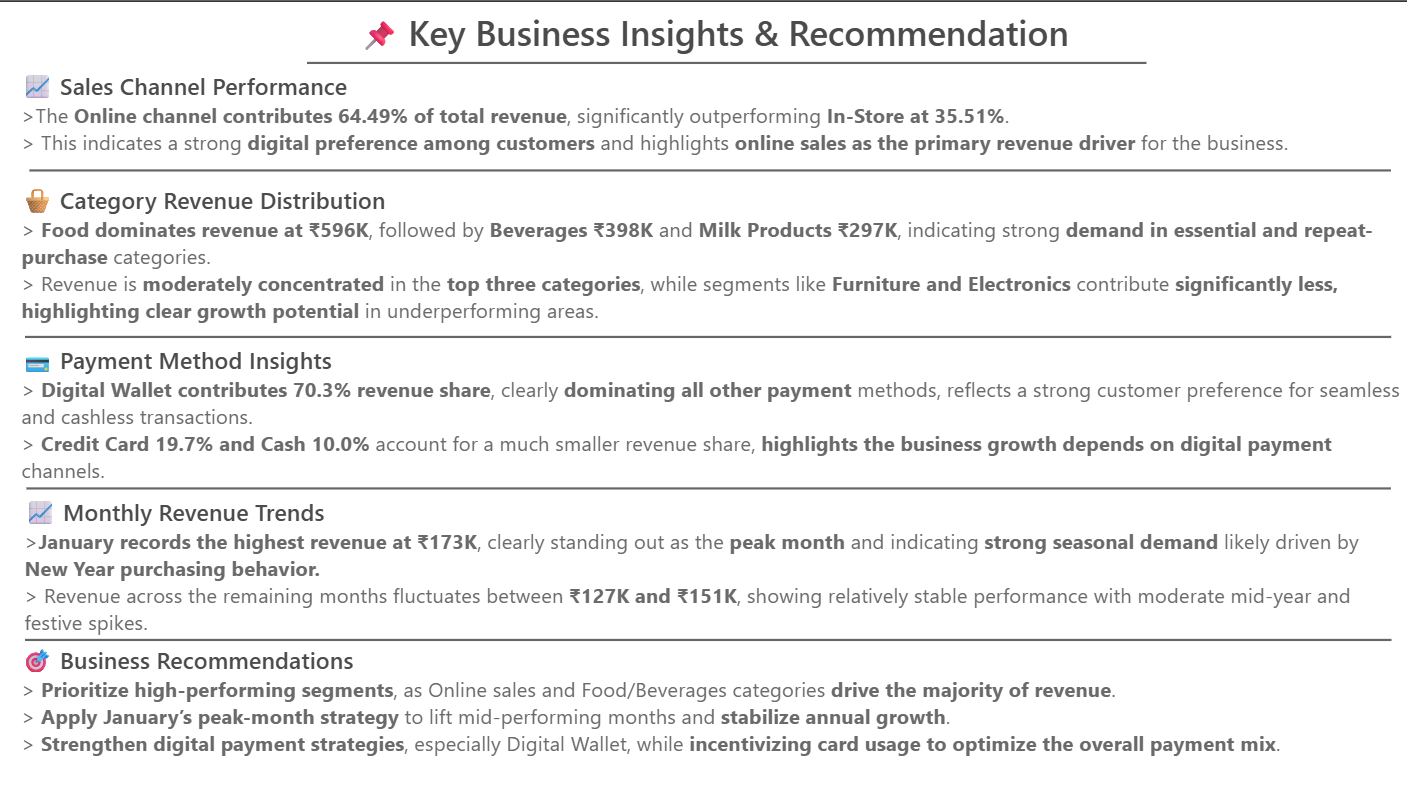

This screenshot's page, from the dashboard's own definition file:
{"tool":"powerbi","page":{"name":"Insights & recommendations","canvas":[1280,720],"ordinal":1},"visuals":[{"type":"textbox","box":[18.9,0,1238,59.9],"z":0},{"type":"textbox","box":[0,56.7,1270,103.3],"z":1000},{"type":"textbox","box":[0,160,1270,185],"z":2000},{"type":"textbox","box":[0,307.1,1270,160],"z":3000},{"type":"textbox","box":[2.9,445.7,1270,155.7],"z":4000},{"type":"textbox","box":[0,581.4,1270,138.6],"z":5000},{"type":"shape","box":[12.9,144.3,1244.3,20],"z":6000},{"type":"shape","box":[8.3,296.7,1248.3,20],"z":7000},{"type":"shape","box":[10,435,1246.7,20],"z":8000},{"type":"shape","box":[8.6,572.9,1248.6,20],"z":9000},{"type":"shape","box":[266.2,44.1,767.1,23.6],"z":10000}]}

Visuals, with their boxes in screenshot pixels (x1, y1, x2, y2), scaled from the page's 1280x720 canvas onto the 1407x789 screenshot:
textbox: x1=21 y1=0 x2=1382 y2=66
textbox: x1=0 y1=62 x2=1396 y2=175
textbox: x1=0 y1=175 x2=1396 y2=378
textbox: x1=0 y1=337 x2=1396 y2=512
textbox: x1=3 y1=488 x2=1399 y2=659
textbox: x1=0 y1=637 x2=1396 y2=788
shape: x1=14 y1=158 x2=1382 y2=180
shape: x1=9 y1=325 x2=1381 y2=347
shape: x1=11 y1=477 x2=1381 y2=499
shape: x1=9 y1=628 x2=1382 y2=650
shape: x1=293 y1=48 x2=1136 y2=74
